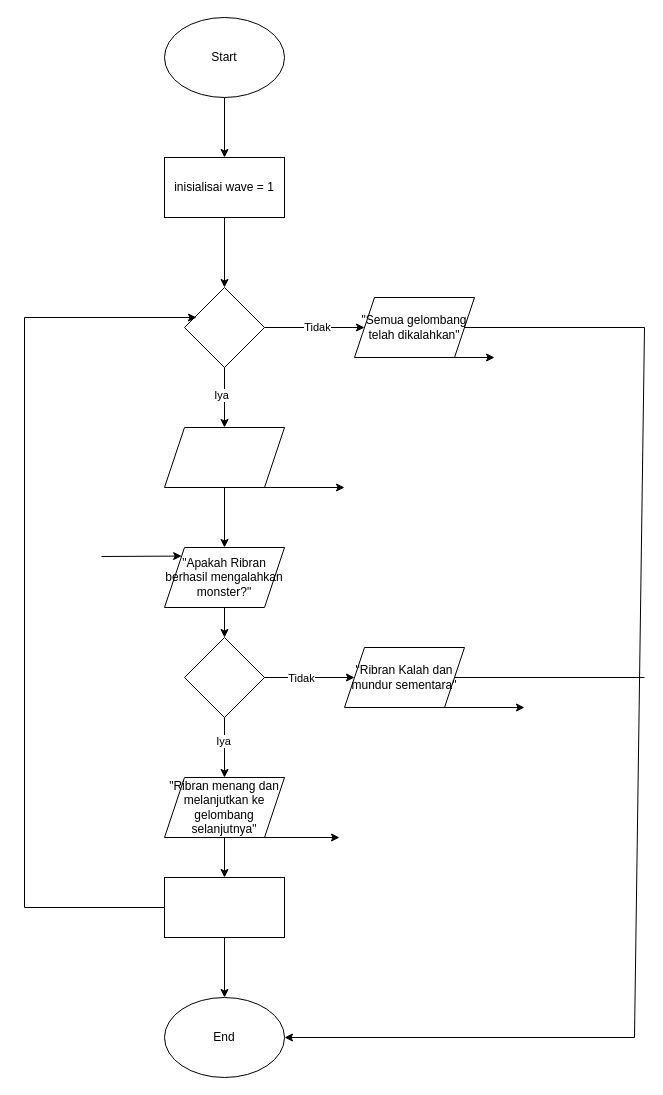
Image size: 663x1095. Some labels were removed from this diagram. The centre of each missing label's shape, as x and y in pixels:
"Gelombang [wave] monster muncul": point 224,457
Apakah Ribran menang?: point 224,677
Apakah wave <=3?: point 224,327
wave = wave + 1: point 224,907
